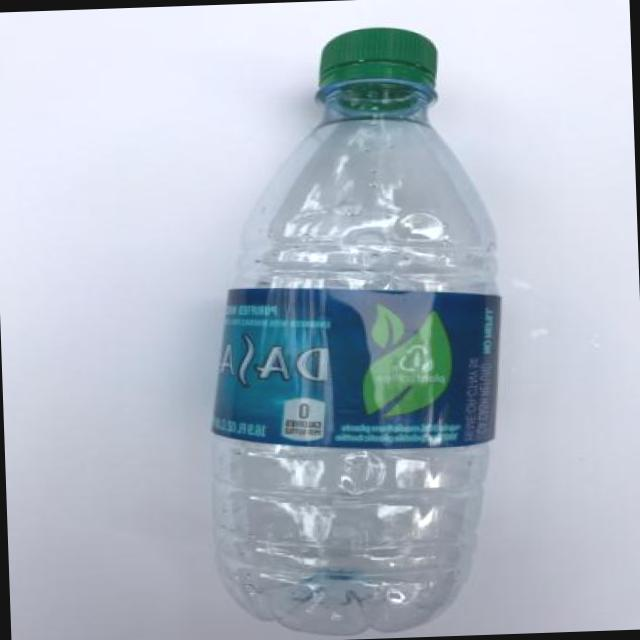plastic: (190, 11, 484, 598)
